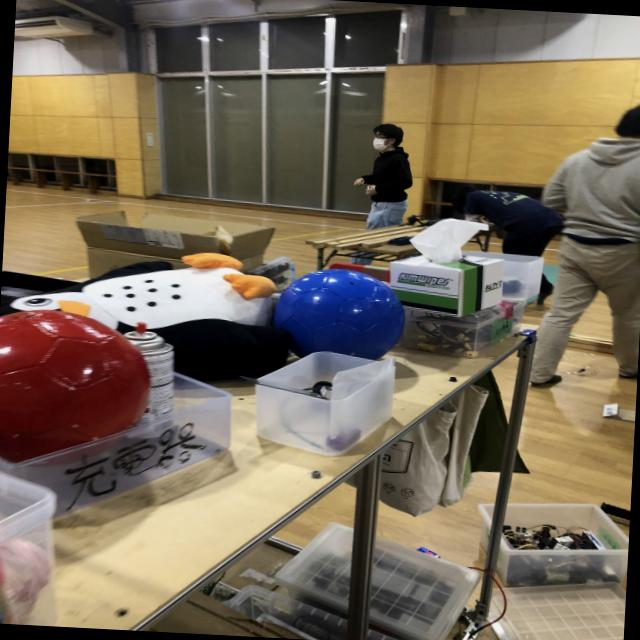blue_ball: (268, 266, 408, 372)
red_ball: (0, 305, 159, 471)
